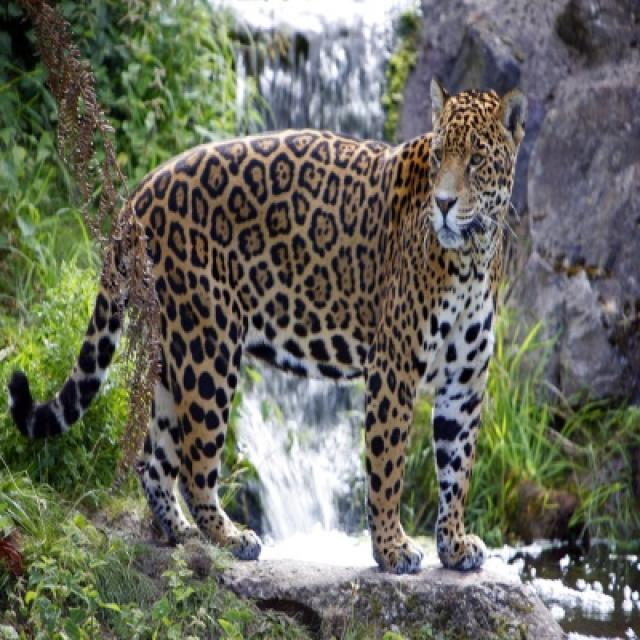Jaguar: (8, 90, 525, 574)
